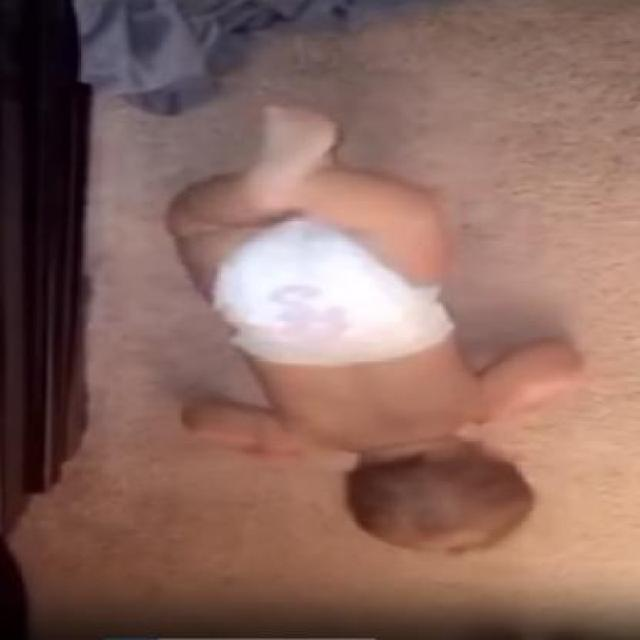baby: (162, 109, 584, 560)
